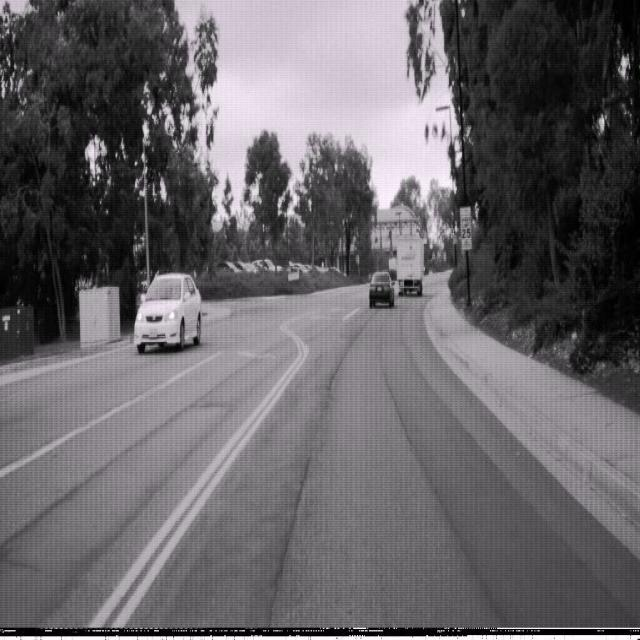speedLimit25: (459, 205, 473, 251)
